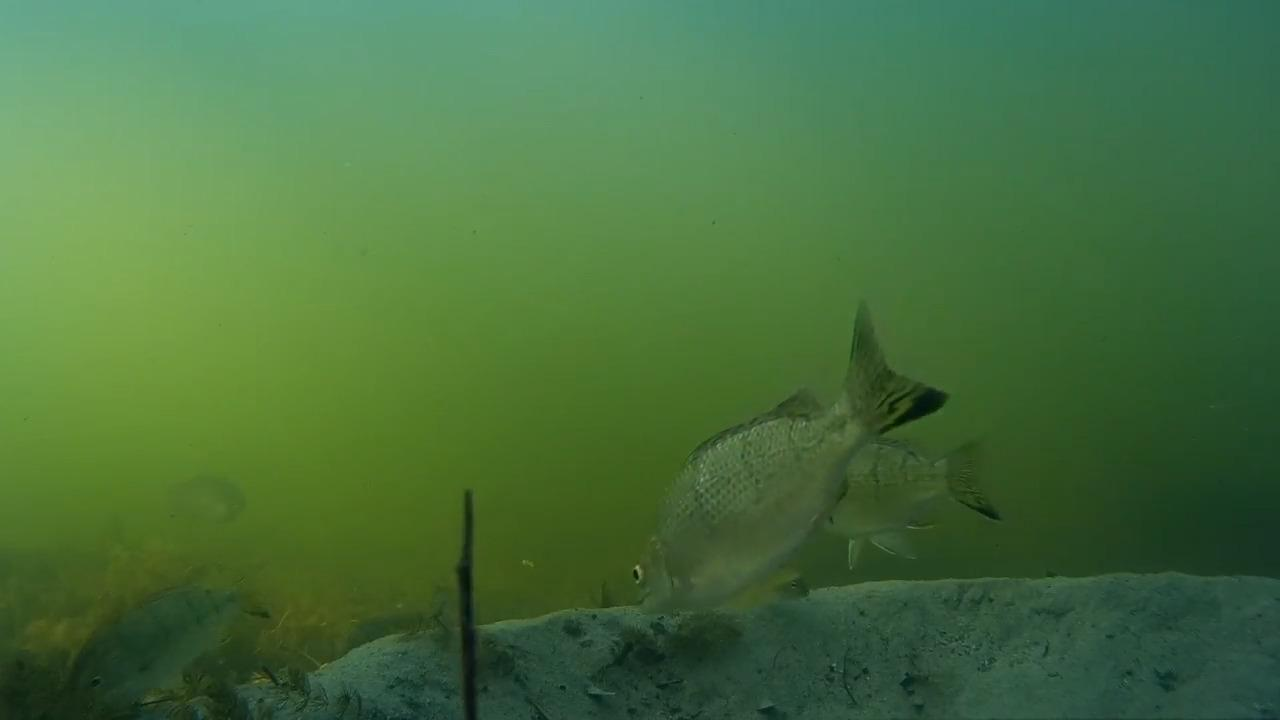Tilapia: (605, 380, 934, 617), (22, 561, 294, 712), (790, 420, 1029, 578)
